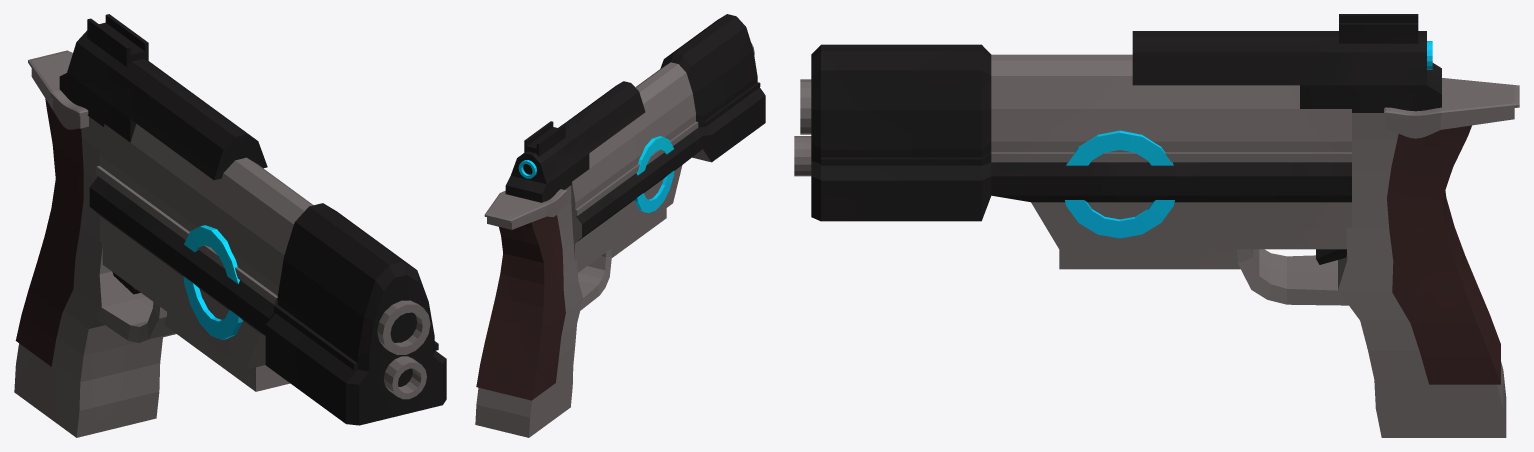
File: Pistol.glb
3 renders of one model, left to right at view 1: azimuth 30°, elevation 25°; view 2: azimuth 150°, elevation 25°; view 3: azimuth 270°, elevation 25°, orthographic. The views are drawn at different scales.
Visible parts, largest first — view 1: Cube.023; view 2: Cube.023; view 3: Cube.023.
Part boxes in pixels (x1,y1,x2,y2): Cube.023: (14,14,446,437); Cube.023: (475,14,765,437); Cube.023: (794,14,1519,437).
Bounding box in the file's own units: 0.0516 × 0.1953 × 0.3218.
1 material, 1 textured.
